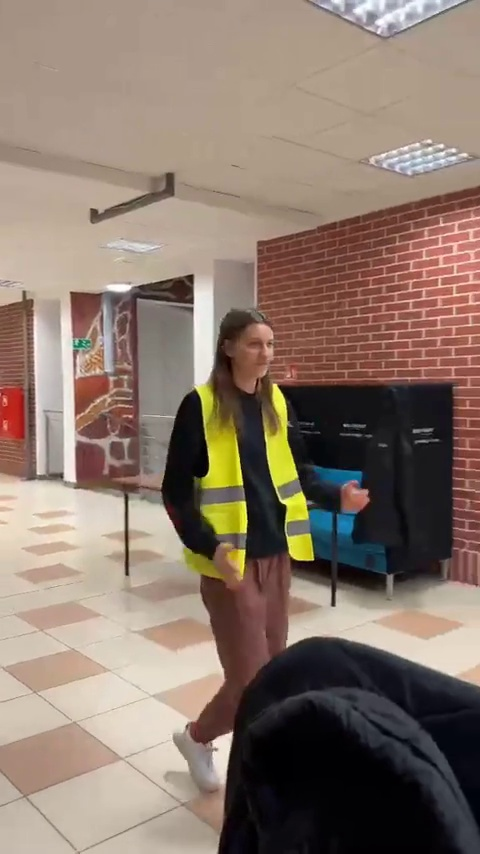vest: (162, 304, 357, 771)
